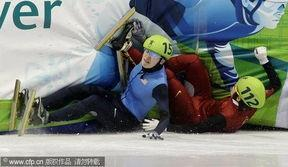Fall-Detected: (123, 29, 284, 137)
